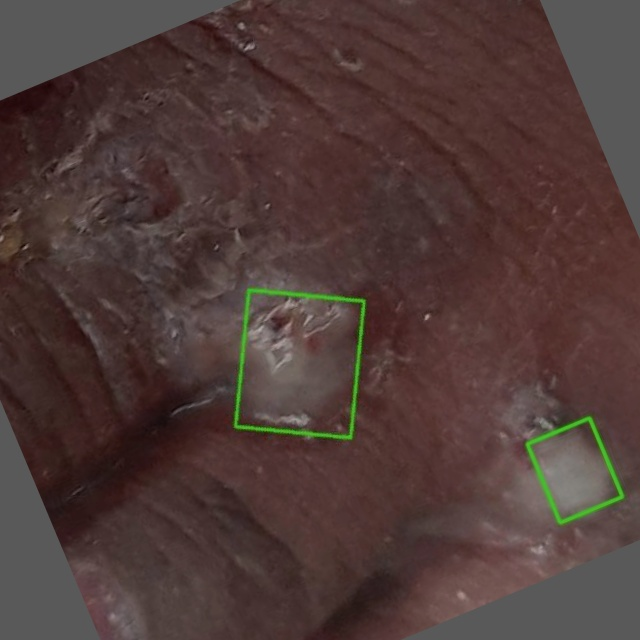Eczema: (236, 289, 364, 436), (527, 418, 622, 523)
